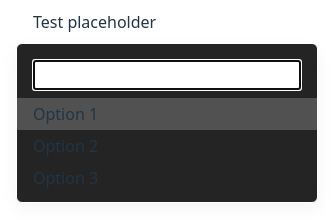
Select › With expanded dropdown › filters options by search
Type "option" into the search field at (167, 75), box [33,60,301,90]
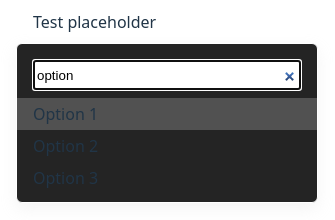
Expected: the number of options is 3, [17,98,317,130]; [33,135,98,157]; [33,167,98,189]
Type " 1" into the search field at (167, 75), box [33,60,301,90]
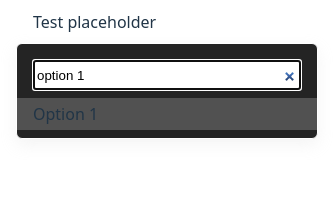
Expected: the option reads "Option 1", [17,98,317,130]
Now the number of options is 1, box [17,98,317,130]
Type "11" into the search field at (167, 75), box [33,60,301,90]
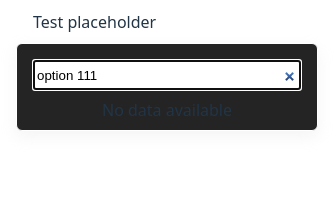
Now the number of options is 1, box [102,99,232,121]
Now the option reads "No data available", box [102,99,232,121]
